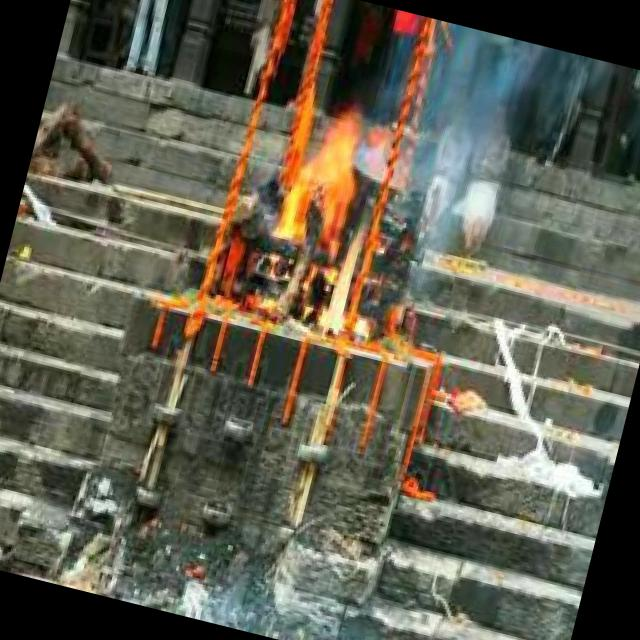Fire: (252, 88, 402, 340)
